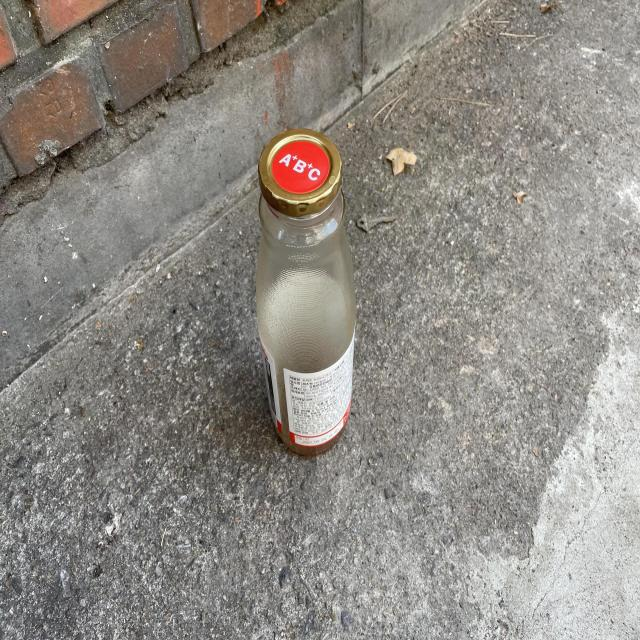glass: (257, 128, 356, 456)
